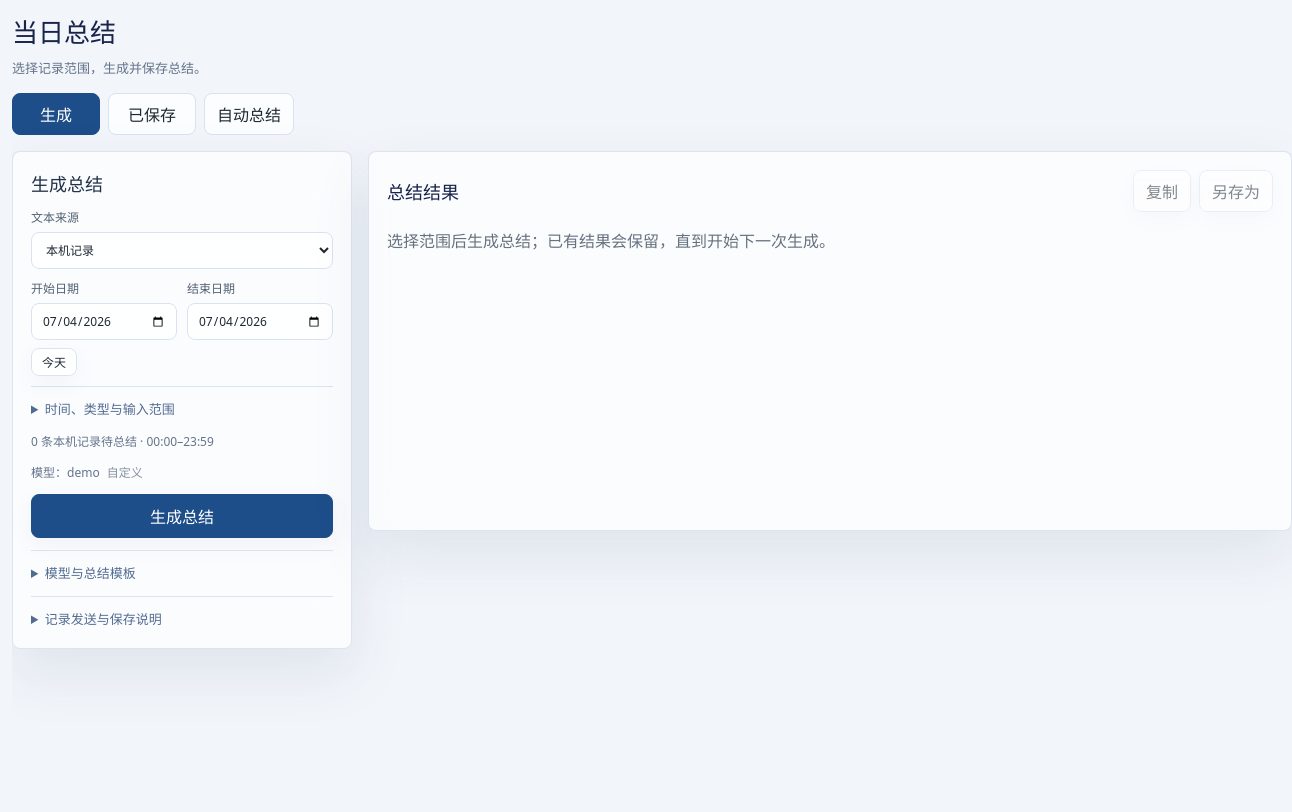
it: summary streaming and generated log loading › displays an existing generated Markdown summary immediately and switches without confirmation
Click the button "已保存".
click(152, 114)  # box [108,93,196,135]
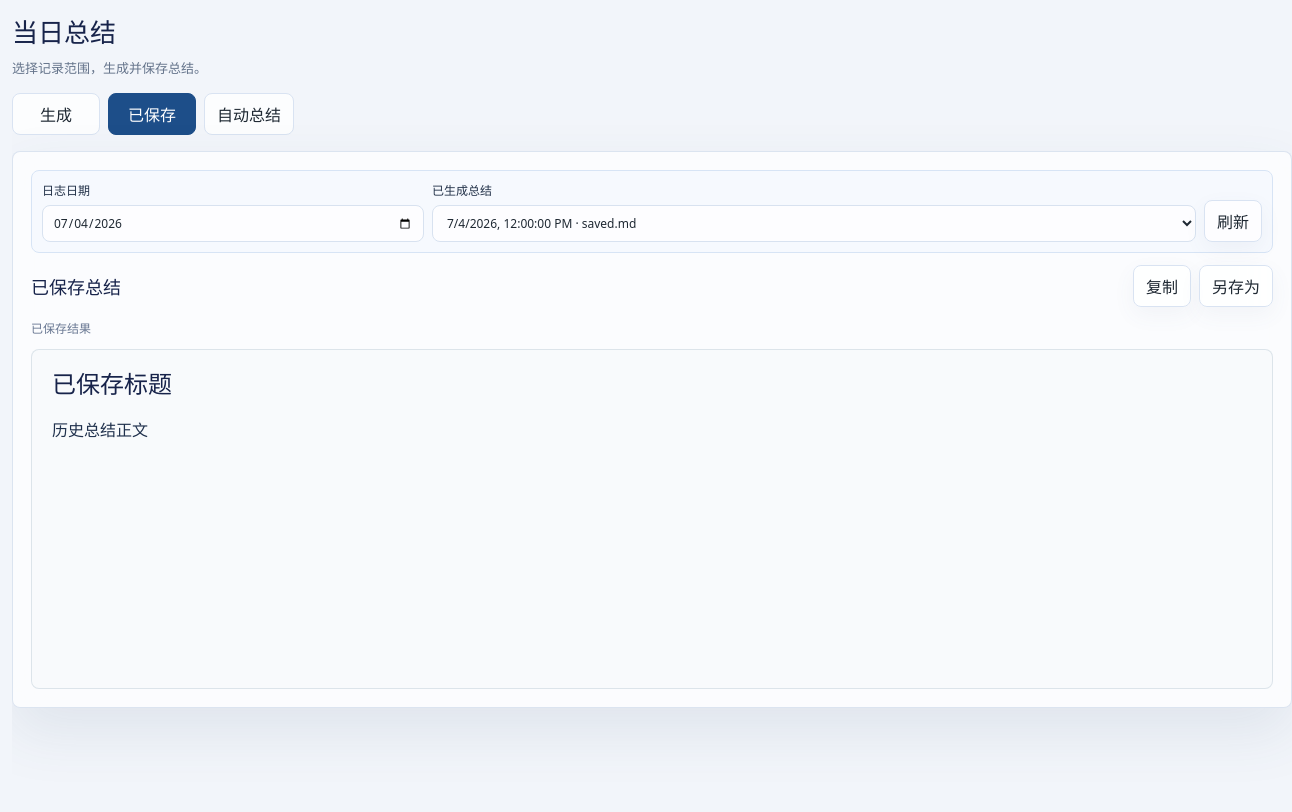
Now the heading "已保存标题" is shown, box [52,367,172,400]
Now the text "历史总结正文" is shown, box [52,420,148,442]
Select "7/4/2026, 10:00:00 AM · older.md" in the dropdown labelled "已生成总结" at [814, 224], box [432,205,1196,242]
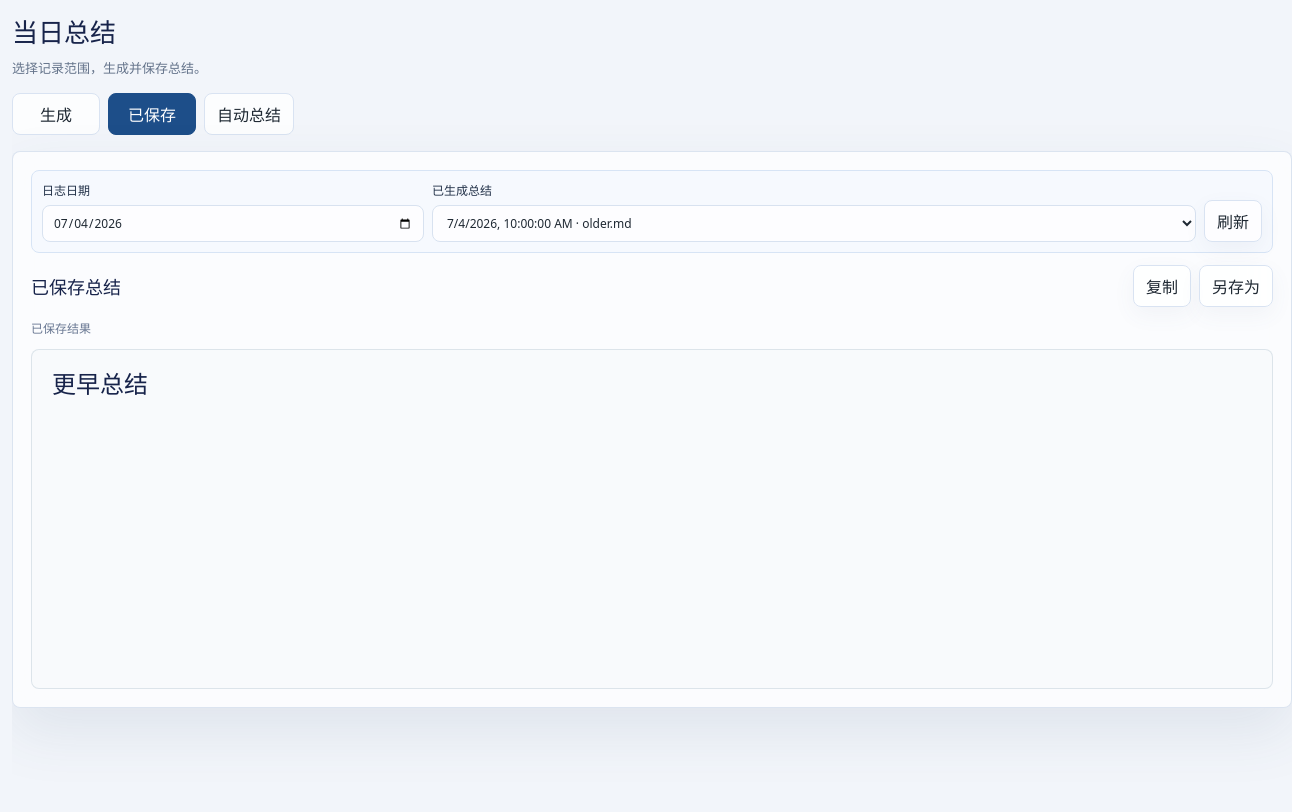
Now the heading "更早总结" is shown, box [52,367,148,400]
